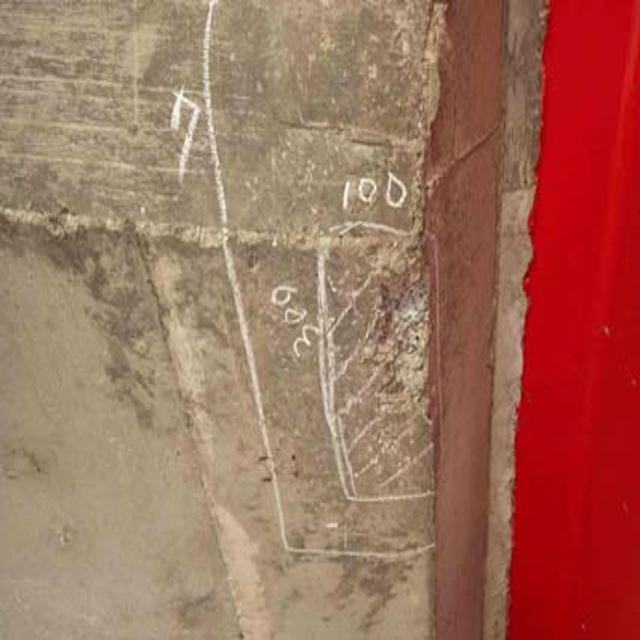spalling: (309, 198, 457, 403)
